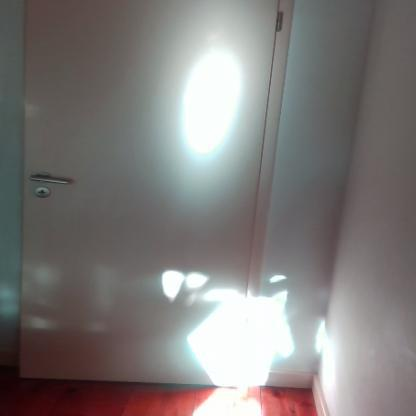door: (26, 0, 258, 386)
hinged: (274, 10, 284, 32)
lever: (28, 172, 74, 188)
